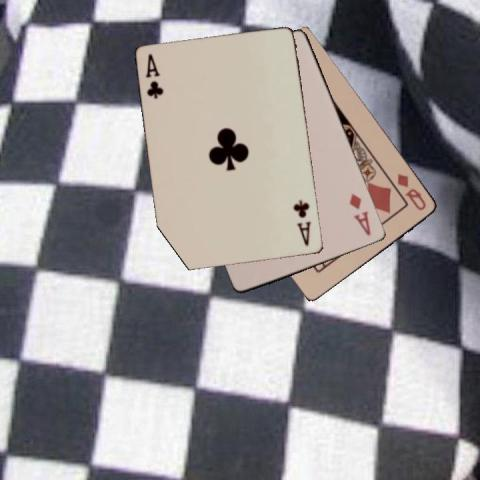Ac: (291, 197, 313, 248), (143, 51, 165, 101)
Ad: (346, 191, 372, 237)
Qd: (395, 170, 428, 213)
